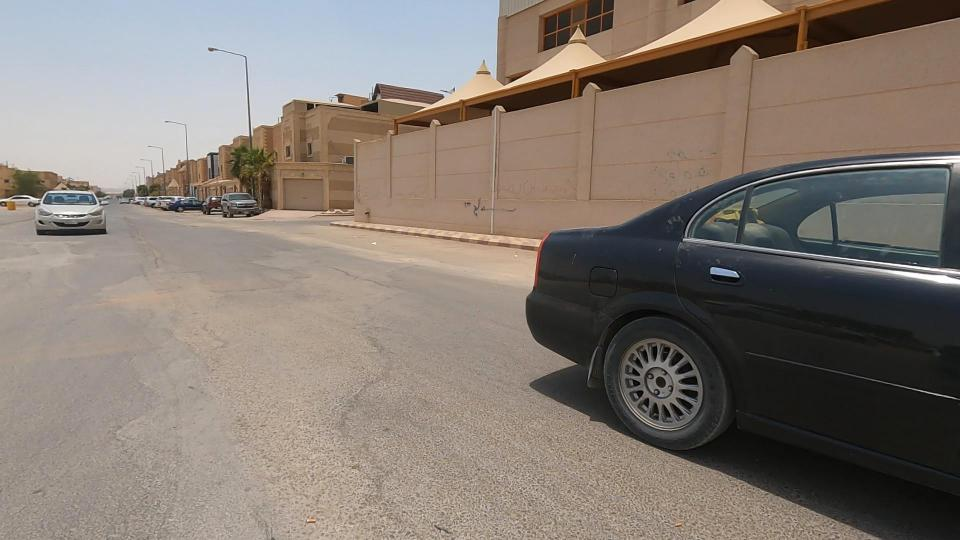GRAFFITI: (423, 173, 553, 242)
POTHOLES: (262, 335, 469, 540), (111, 204, 187, 310)
